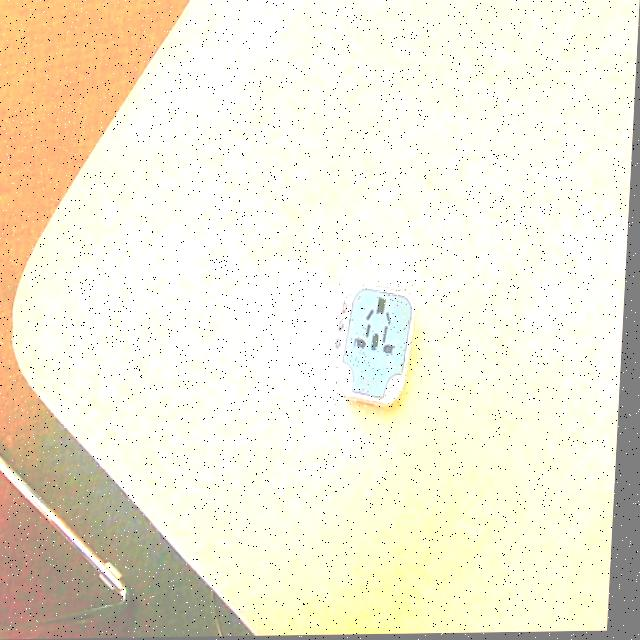adapter: (336, 282, 420, 409)
